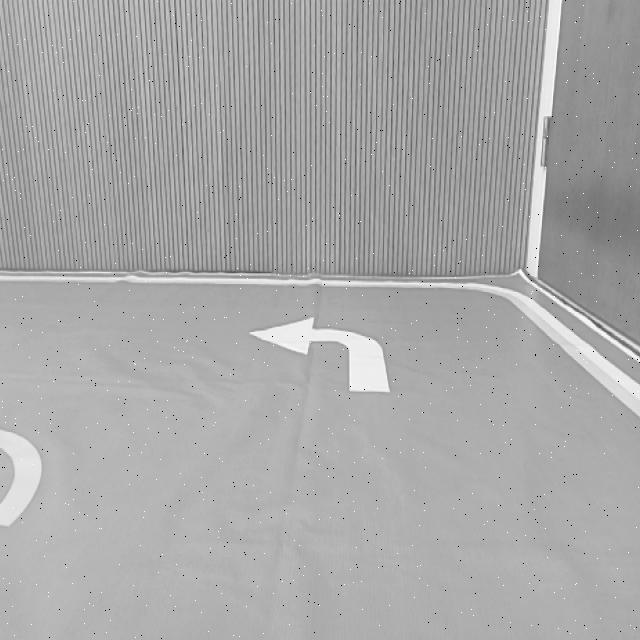left_lane: (0, 461, 42, 534)
right_lane: (515, 302, 640, 421)
